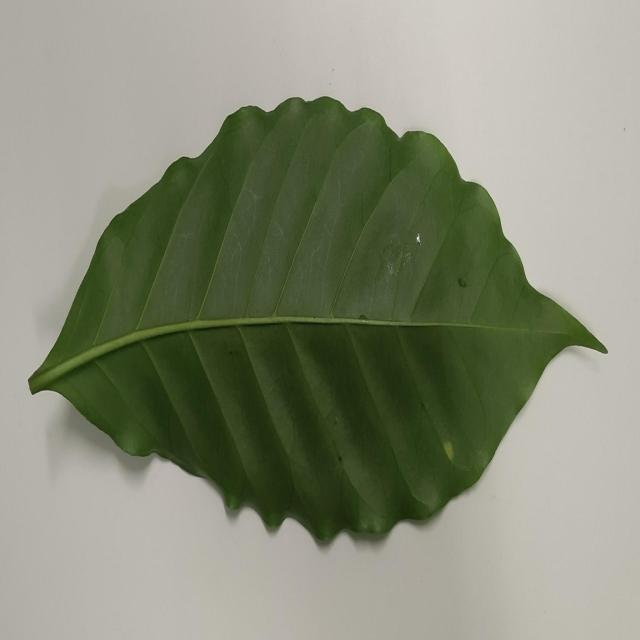Sanas: (26, 96, 606, 552)
